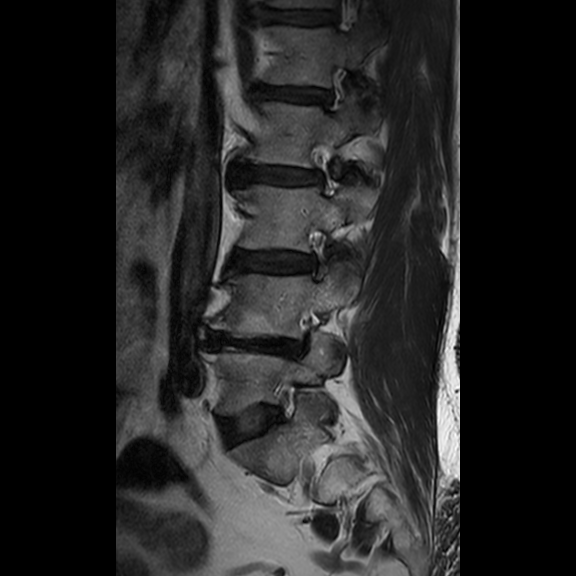RFS0: (300, 132, 348, 209)
RFS1: (289, 219, 342, 291)
